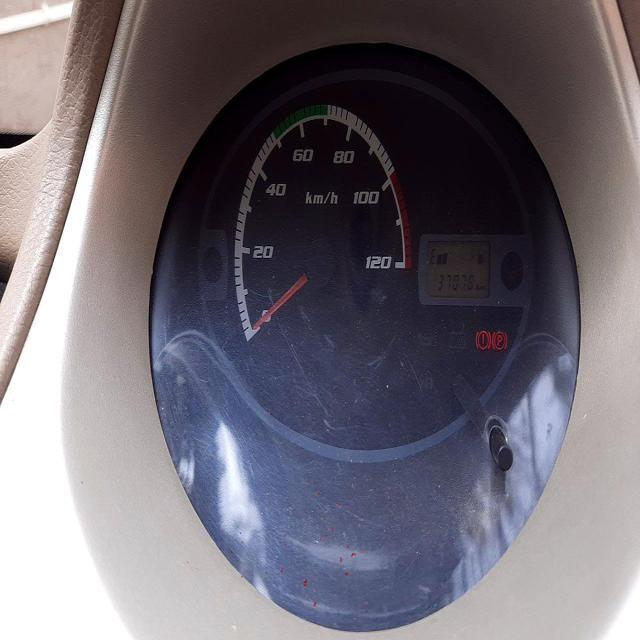odometer: (437, 272, 475, 291)
